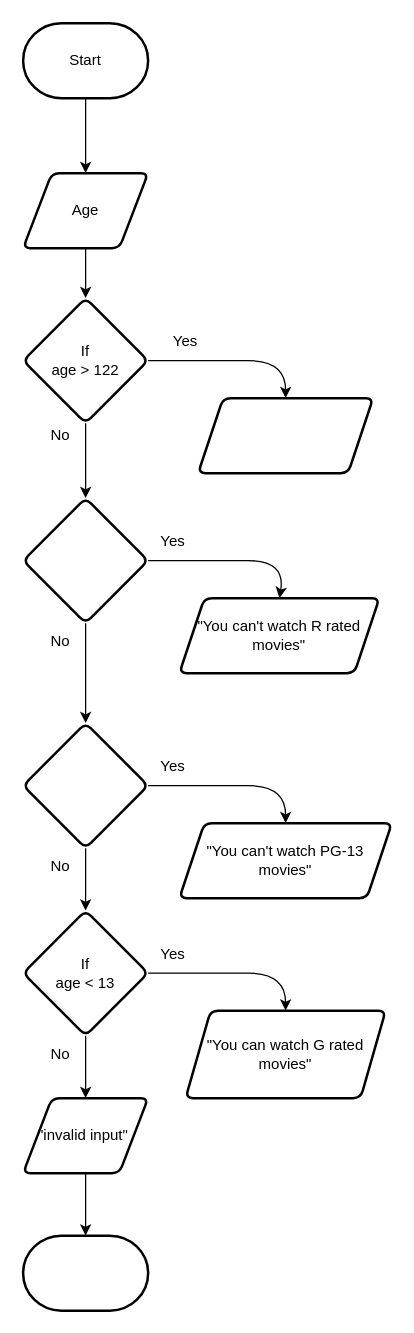
Image size: 414x1333. Some labels were removed from this diagram. Each missing label, with the centre of its shape:
"Not Possible": pixel 285 435
if age > 12: pixel 85 785
if age > 17: pixel 85 560
Stop: pixel 85 1272
